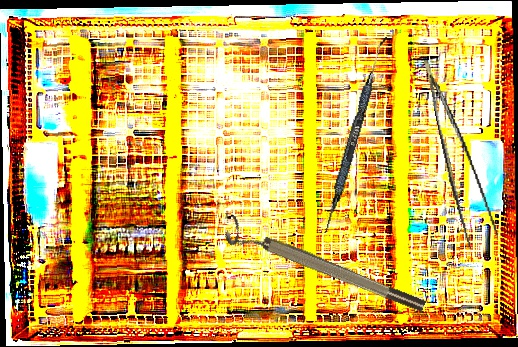Fixation Ring: (222, 215, 428, 324)
Spatula Surgical: (322, 34, 387, 236)
Tissue Forceps: (423, 53, 501, 255)
